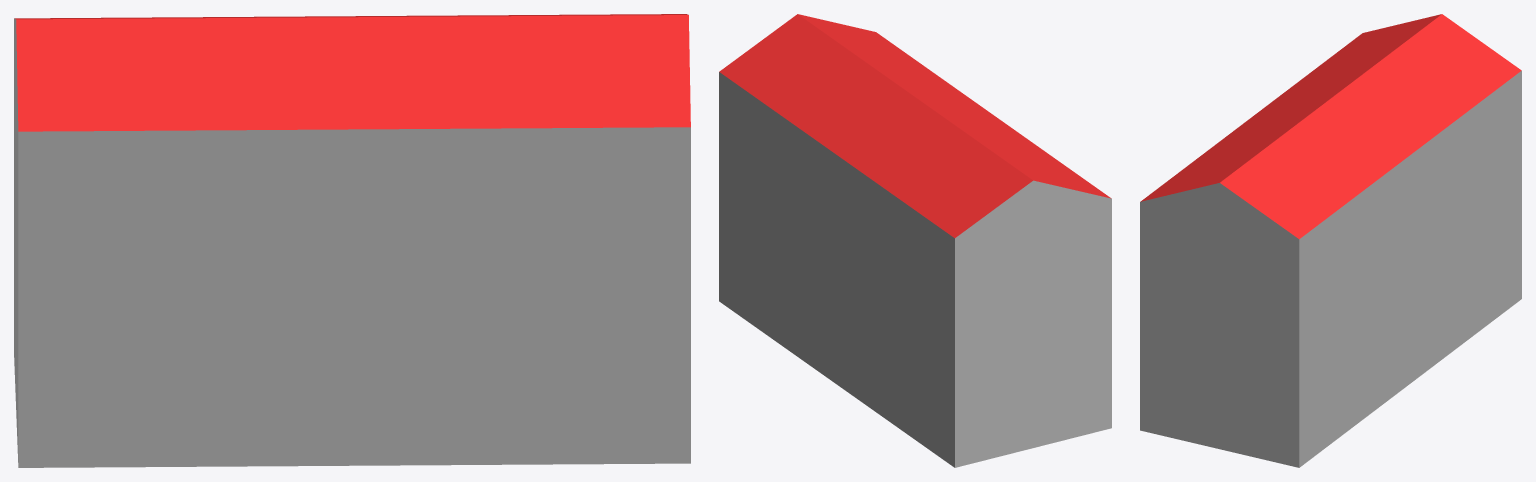
The model's file is pb-96359a01-7f36-11f0-9e07-9c7bef4dcf4c.dae.
The picture shows the model from 3 angles, left to right: view 1: azimuth 30°, elevation 25°; view 2: azimuth 150°, elevation 25°; view 3: azimuth 270°, elevation 25°; orthographic projection. The views are drawn at different scales.
Size of the model in its own units: 34.83 by 27.23 by 20.98.
